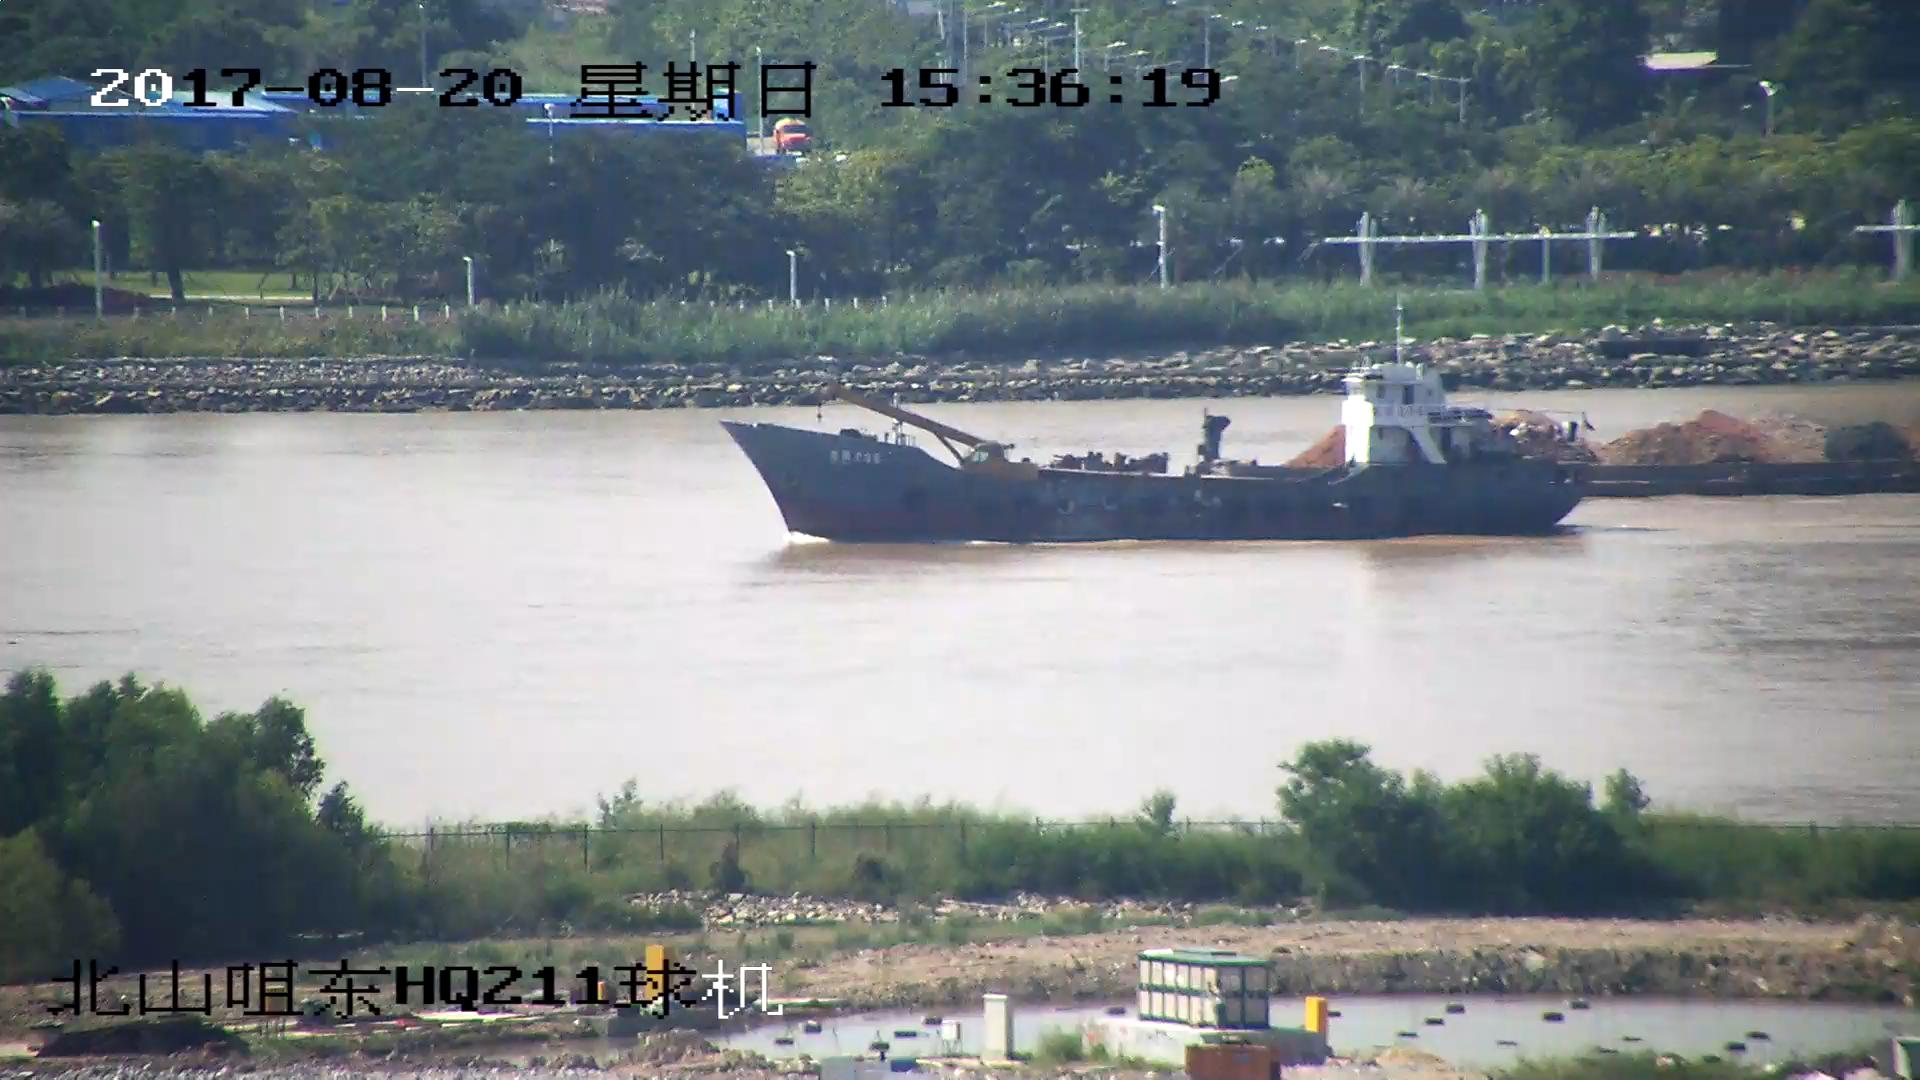general cargo ship: (723, 301, 1584, 542)
ore carrier: (1180, 391, 1920, 493)
